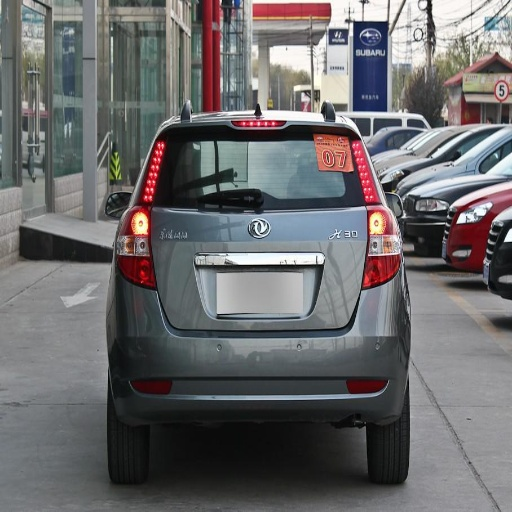back_bumper: (107, 272, 412, 426)
tailgate: (153, 190, 367, 331)
trunk: (263, 209, 325, 233)
